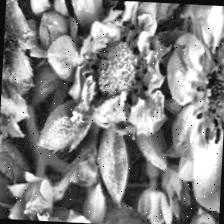Blossom Blight: (77, 20, 155, 116), (191, 38, 224, 144)
